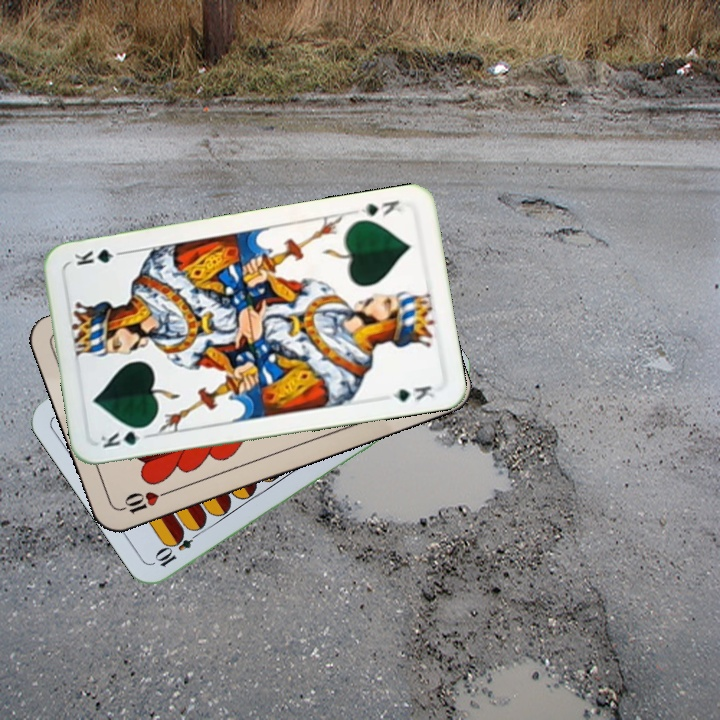E10: (151, 525, 204, 570)
GK: (96, 422, 154, 451), (357, 196, 404, 220)
H10: (117, 486, 174, 517)
